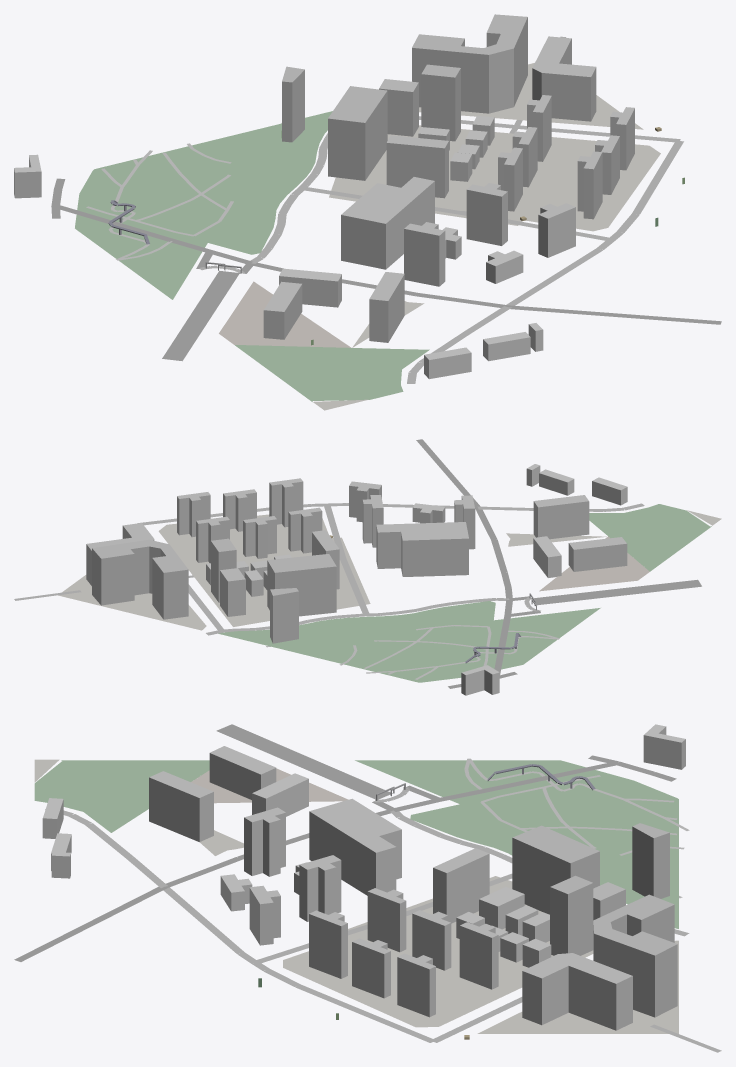
3 views of the same model, one above another, from view 1: azimuth 30°, elevation 25°; view 2: azimuth 150°, elevation 25°; view 3: azimuth 270°, elevation 25° (orthographic). The views are drawn at different scales.
Size of the model in its own units: 600 by 58.08 by 549.
